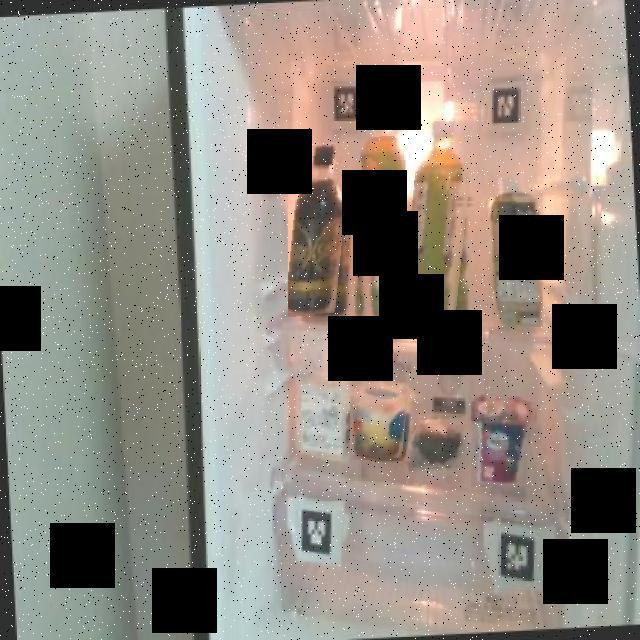bottle: (406, 117, 476, 325), (344, 121, 410, 322)
coffee: (288, 143, 352, 319)
pudding: (350, 377, 410, 461)
rice_ball: (410, 415, 472, 470)
sandwich: (286, 332, 354, 460)
smoothie: (480, 168, 543, 327)
yogurt: (472, 388, 538, 487)
